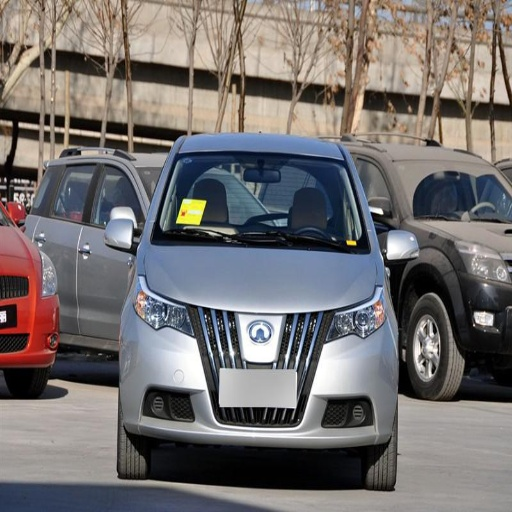front_bumper: (125, 305, 402, 448)
front_left_light: (323, 289, 389, 342)
front_right_door: (79, 160, 144, 289)
front_right_light: (133, 286, 193, 335)
hood: (144, 245, 376, 310)
